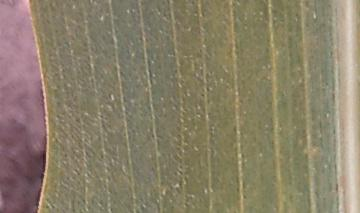tarspot: (198, 91, 207, 99), (333, 180, 339, 192), (241, 192, 248, 201), (328, 49, 335, 58), (98, 112, 104, 120), (294, 11, 300, 18)
